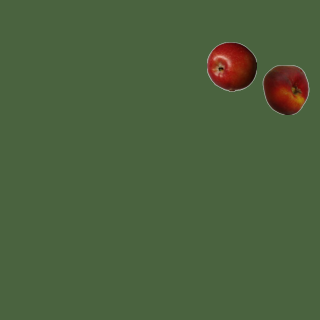Apple Braeburn: (206, 41, 256, 91)
Nectarine Flat: (260, 64, 310, 114)
